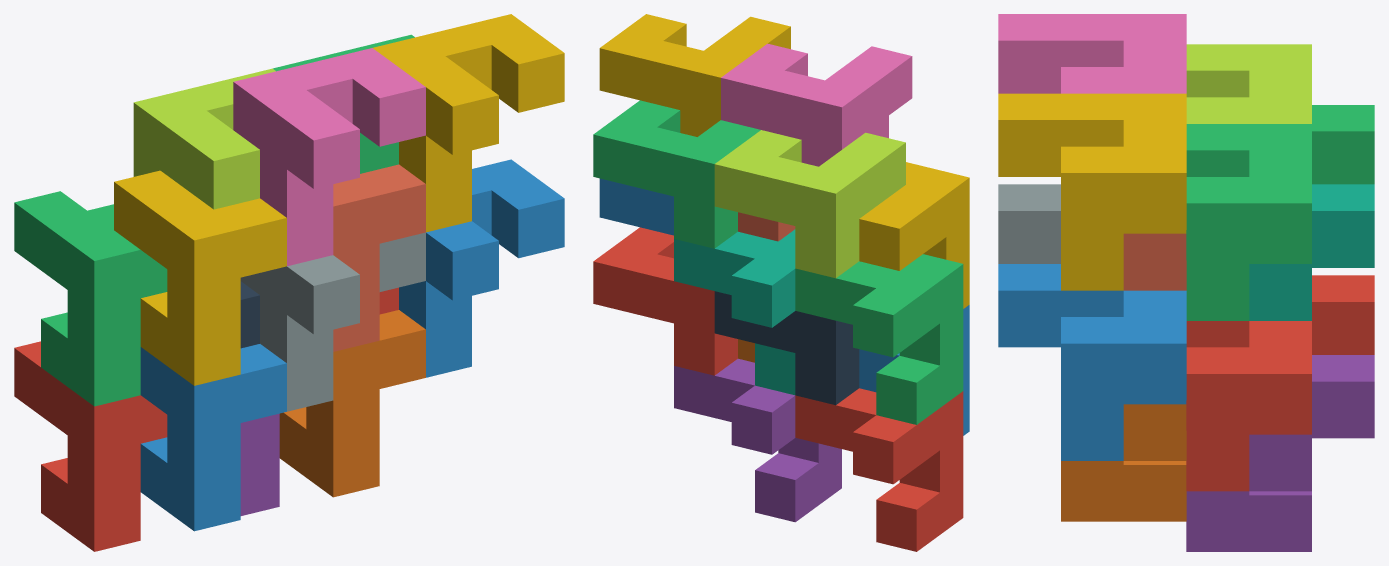
The model's file is tiling.obj.
The picture shows the model from 3 angles, left to right: view 1: azimuth 30°, elevation 25°; view 2: azimuth 150°, elevation 25°; view 3: azimuth 270°, elevation 25°; orthographic projection. The views are drawn at different scales.
Visible parts, largest first — view 1: copy_2_domain_4, copy_1_domain_4, copy_2_domain_8, copy_1_domain_3, copy_1_domain_2, copy_1_domain_1, copy_2_domain_6, copy_1_domain_6, copy_2_domain_2, copy_2_domain_3, copy_1_domain_8, copy_1_domain_5 (+2 smaller); view 2: copy_1_domain_3, copy_2_domain_3, copy_1_domain_1, copy_2_domain_4, copy_2_domain_7, copy_1_domain_5, copy_2_domain_8, copy_2_domain_5, copy_1_domain_7, copy_1_domain_4, copy_2_domain_1, copy_2_domain_6 (+2 smaller); view 3: copy_2_domain_8, copy_2_domain_6, copy_2_domain_7, copy_2_domain_5, copy_1_domain_5, copy_2_domain_4, copy_1_domain_6, copy_2_domain_3, copy_1_domain_7, copy_1_domain_1, copy_1_domain_3, copy_2_domain_2 (+1 smaller).
Part boxes in pixels (x1,y1,x2,y2): copy_2_domain_4: (233, 48, 425, 266); copy_1_domain_4: (114, 170, 286, 385); copy_2_domain_8: (373, 14, 564, 232); copy_1_domain_3: (14, 191, 167, 406); copy_1_domain_2: (140, 344, 286, 531); copy_1_domain_1: (14, 341, 167, 551); copy_2_domain_6: (399, 159, 564, 377); copy_1_domain_6: (279, 310, 425, 497); copy_2_domain_2: (240, 232, 425, 411); copy_2_domain_3: (133, 68, 275, 209); copy_1_domain_8: (333, 164, 425, 351); copy_1_domain_5: (240, 413, 279, 515); copy_1_domain_3: (795, 254, 963, 424); copy_2_domain_3: (714, 130, 905, 278); copy_1_domain_1: (795, 388, 963, 551); copy_2_domain_4: (721, 43, 912, 166); copy_2_domain_7: (593, 100, 760, 248); copy_1_domain_5: (674, 358, 841, 522); copy_2_domain_8: (599, 14, 790, 136); copy_2_domain_5: (593, 227, 737, 375); copy_1_domain_7: (674, 229, 795, 395); copy_1_domain_4: (859, 162, 969, 308); copy_2_domain_1: (714, 291, 859, 405); copy_2_domain_6: (599, 178, 673, 235); copy_2_domain_8: (998, 93, 1186, 290); copy_2_domain_6: (998, 264, 1186, 460); copy_2_domain_7: (1186, 124, 1311, 320); copy_2_domain_5: (1186, 321, 1311, 491); copy_1_domain_5: (1186, 355, 1374, 551); copy_2_domain_4: (998, 14, 1186, 93); copy_1_domain_6: (1061, 404, 1186, 521); copy_2_domain_3: (1186, 44, 1311, 123); copy_1_domain_7: (1249, 184, 1374, 320); copy_1_domain_1: (1312, 275, 1374, 354); copy_1_domain_3: (1312, 105, 1374, 184); copy_2_domain_2: (998, 184, 1060, 263).
Bounding box in the file's own units: 9 × 9 × 6.
